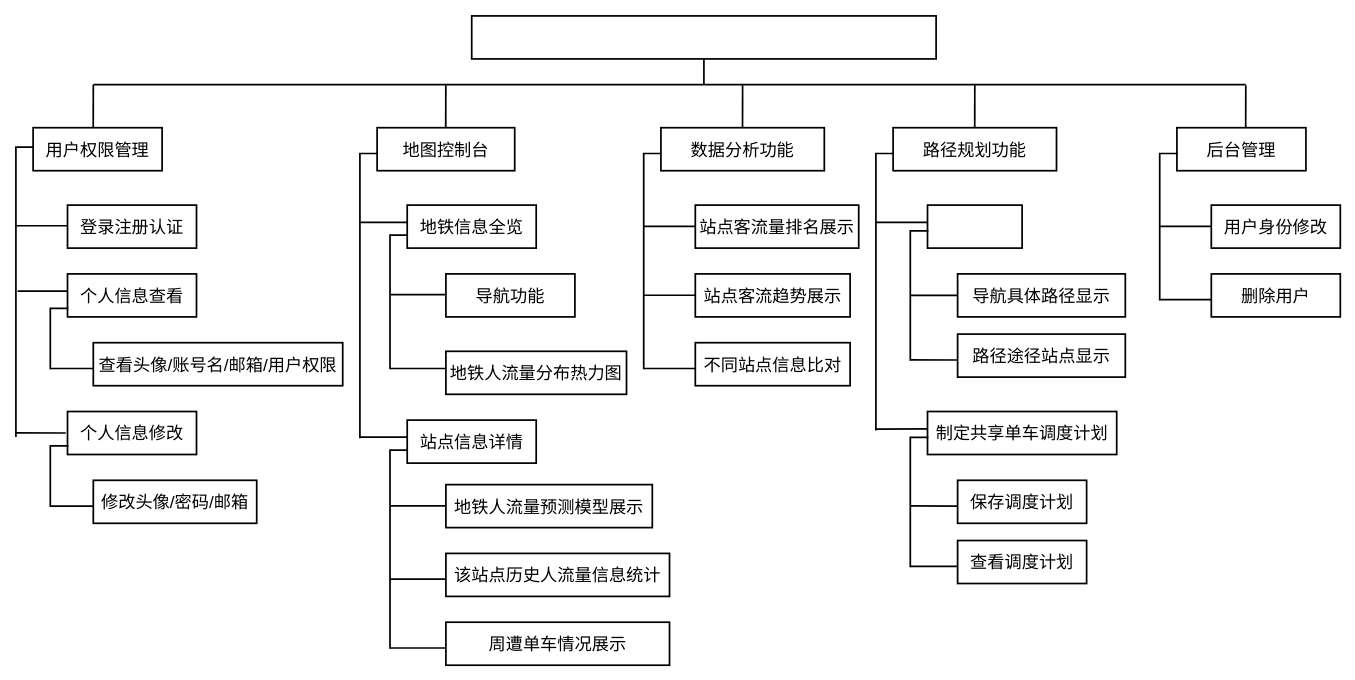
The diagram is 1355 pixels wide and 680 high, and some of its shapes have lost their labels. Here are the shapes that lost their labels. From the top down, the centre of each, then its label:
At point 703,37: "基于LSTM的地铁智慧监控管理与其周边共享单车调度系统".
At point 974,226: "路径导航".
